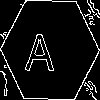A: (25, 25, 55, 71)
